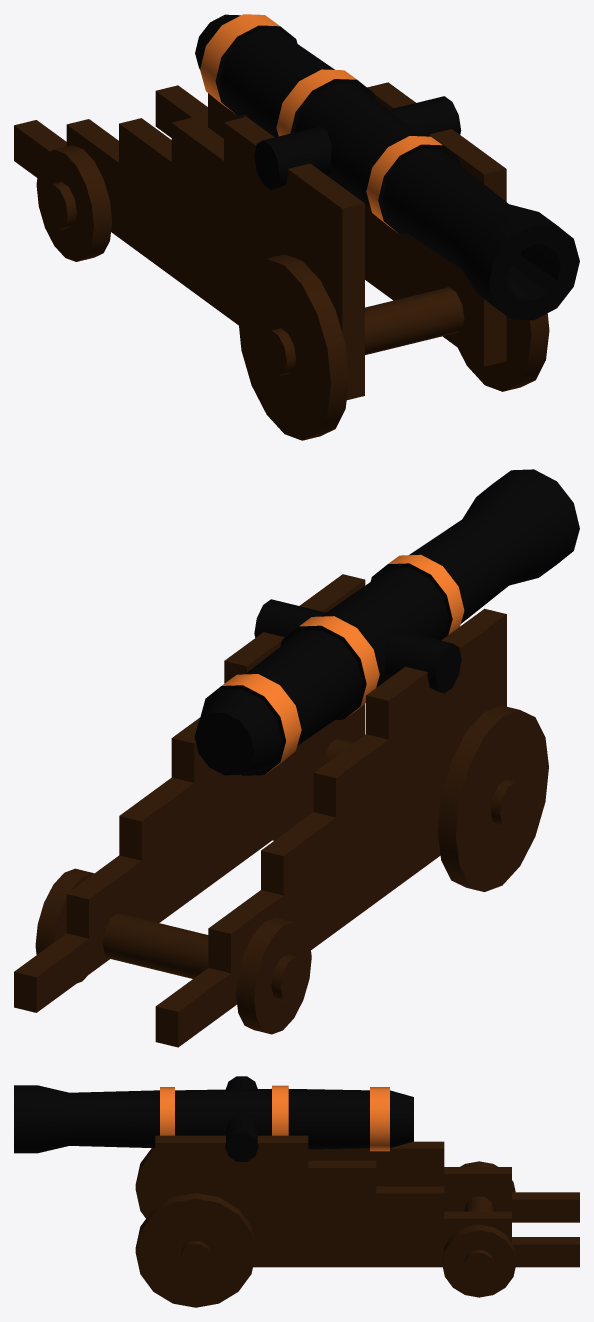
Rendered from Kanon.FBX.
The picture shows the model from 3 angles, top to bottom: view 1: azimuth 30°, elevation 25°; view 2: azimuth 150°, elevation 25°; view 3: azimuth 270°, elevation 25°; orthographic projection. The views are drawn at different scales.
Parts seen in each view (by area): view 1: Cylinder001, Box002, Cylinder005, Box001, Cylinder003, Cylinder008, Cylinder002, Cylinder006, Cylinder004; view 2: Box002, Cylinder001, Box001, Cylinder005, Cylinder004, Cylinder008, Cylinder002, Cylinder007, Cylinder003; view 3: Box001, Cylinder001, Cylinder006, Box002, Cylinder007, Cylinder002, Cylinder004, Cylinder005, Cylinder003.
Part boxes in pixels (x1=…): Cylinder001: x1=195, y1=14, x2=579, y2=320; Box002: x1=14, y1=117, x2=364, y2=399; Cylinder005: x1=238, y1=254, x2=348, y2=440; Box001: x1=155, y1=82, x2=506, y2=366; Cylinder003: x1=263, y1=287, x2=464, y2=375; Cylinder008: x1=36, y1=145, x2=112, y2=261; Cylinder002: x1=254, y1=96, x2=461, y2=189; Cylinder006: x1=458, y1=313, x2=549, y2=391; Cylinder004: x1=44, y1=182, x2=76, y2=229; Box002: x1=155, y1=608, x2=506, y2=1047; Cylinder001: x1=194, y1=469, x2=579, y2=775; Box001: x1=14, y1=574, x2=365, y2=1012; Cylinder005: x1=437, y1=705, x2=548, y2=891; Cylinder004: x1=103, y1=913, x2=303, y2=1002; Cylinder008: x1=236, y1=917, x2=311, y2=1034; Cylinder002: x1=254, y1=599, x2=461, y2=693; Cylinder007: x1=35, y1=868, x2=93, y2=983; Cylinder003: x1=323, y1=738, x2=523, y2=827; Box001: x1=155, y1=1135, x2=579, y2=1267; Cylinder001: x1=14, y1=1085, x2=413, y2=1153; Cylinder006: x1=135, y1=1193, x2=255, y2=1307; Box002: x1=308, y1=1141, x2=579, y2=1222; Cylinder007: x1=442, y1=1224, x2=516, y2=1297; Cylinder002: x1=225, y1=1076, x2=258, y2=1161; Cylinder004: x1=464, y1=1196, x2=494, y2=1279; Cylinder005: x1=135, y1=1148, x2=155, y2=1218; Cylinder003: x1=180, y1=1241, x2=210, y2=1270.
Size of the model in its own units: 77.96 by 248 by 89.57.
